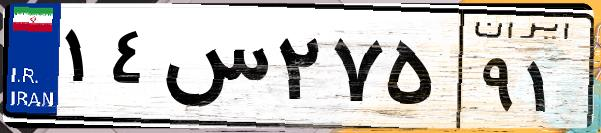1: (57, 26, 110, 100), (525, 38, 570, 115)
2: (270, 28, 330, 110)
4: (110, 28, 158, 98)
5: (385, 28, 445, 110)
7: (330, 28, 385, 110)
9: (475, 38, 525, 113)
س: (158, 20, 270, 120)
